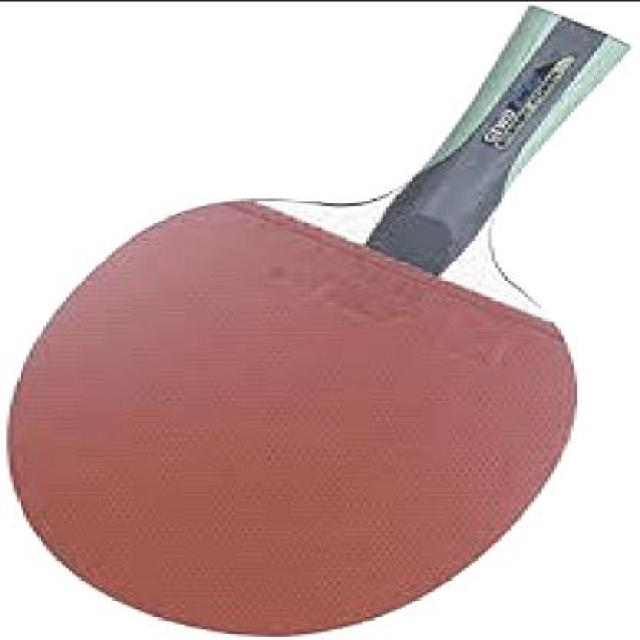table_tennis_racket: (9, 190, 580, 636)
